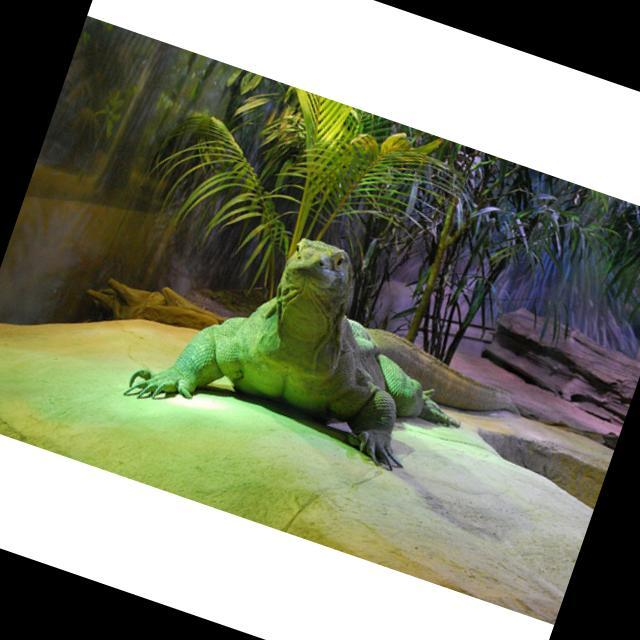KomodoDragon: (124, 194, 558, 521)
